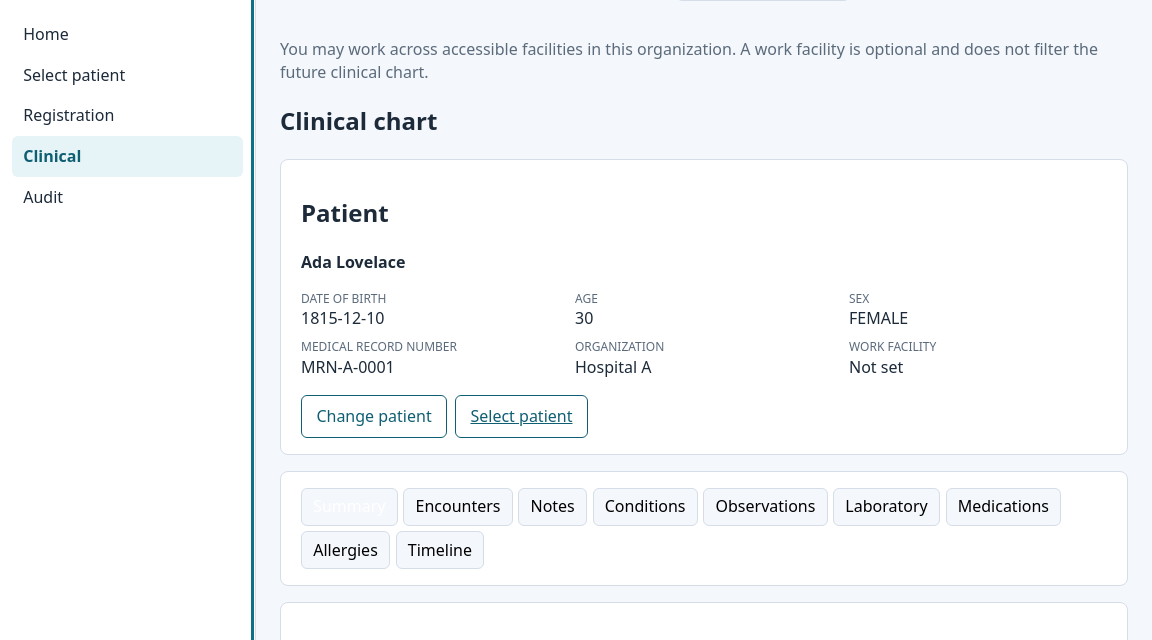
Test case: clinical chart timeline hardening › passes an opaque cursor unchanged and serializes Load More
Click the button "Timeline" at (440, 550), box [396, 531, 484, 569]
(page scrolled)
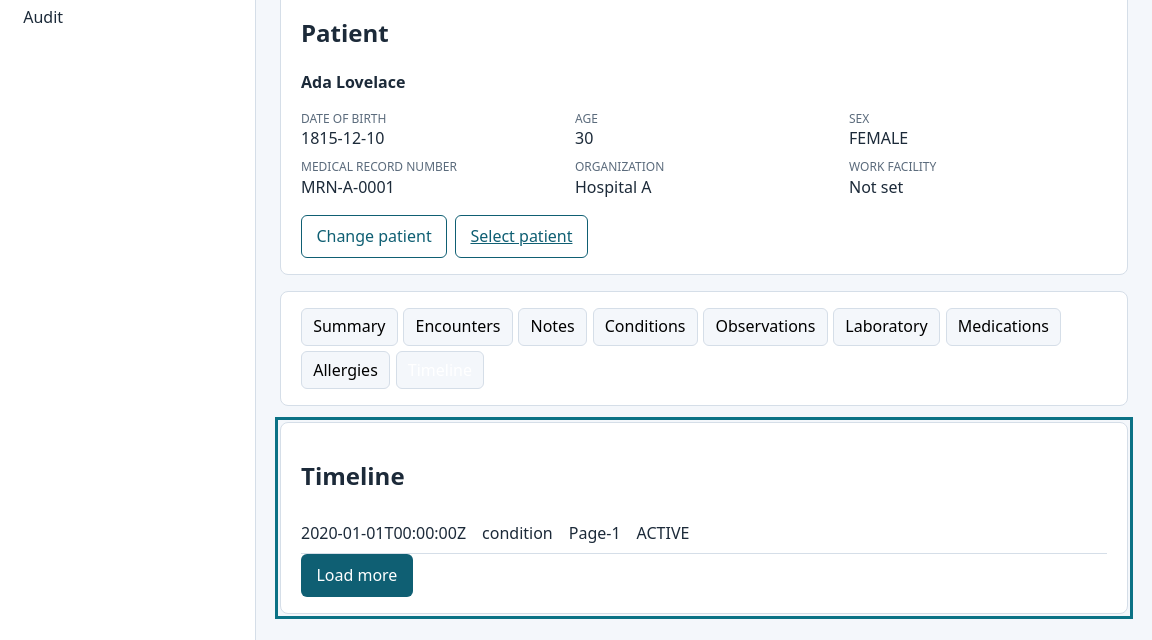
Click the button "Load more" at (357, 575), box [301, 554, 413, 597]
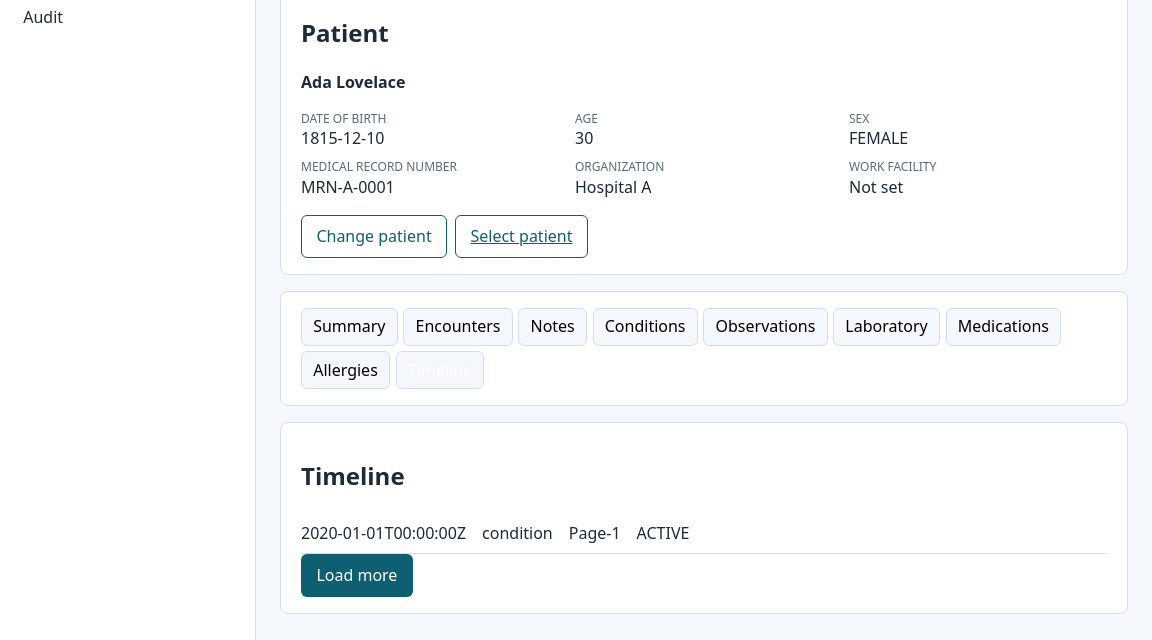
Click the button "Load more" at (357, 575), box [301, 554, 413, 597]
(page scrolled)
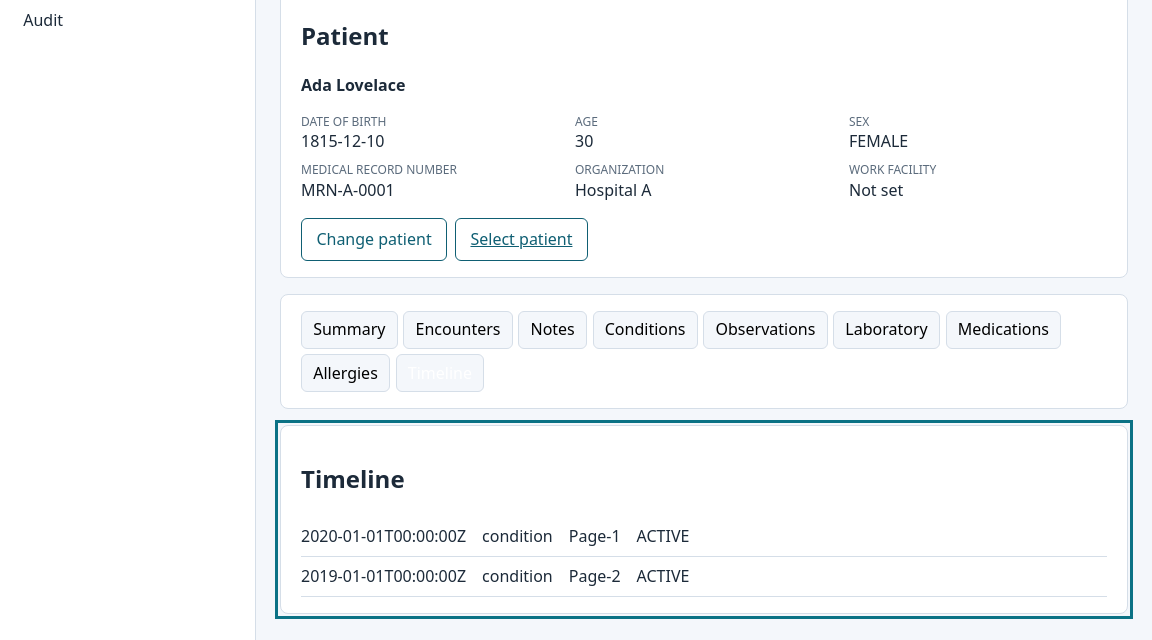
Check: the text "Page-2" is shown, box [569, 565, 621, 588]
Check: the text "Page-1" is shown once, box [569, 525, 621, 548]
